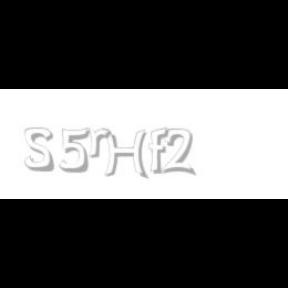2: (160, 128, 194, 176)
5: (58, 128, 89, 174)
H: (102, 128, 148, 180)
S: (24, 128, 56, 172)
f: (149, 128, 173, 174)
r: (88, 128, 114, 158)
